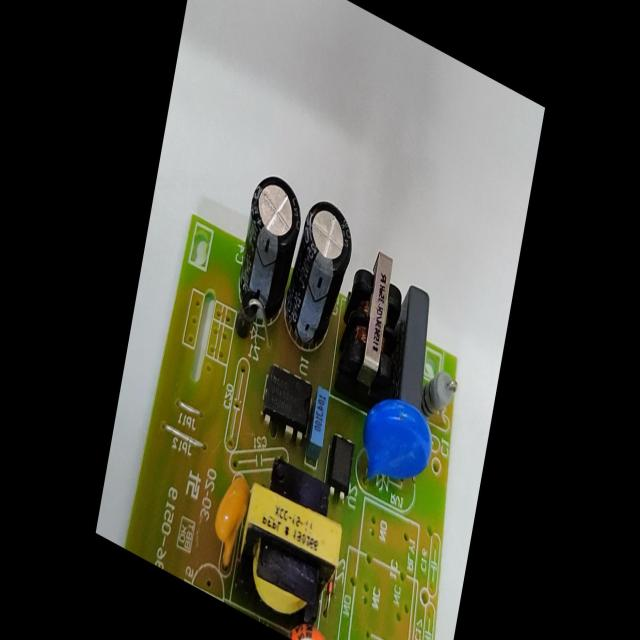Cap1: (272, 602, 345, 639)
Cap3: (278, 180, 362, 369)
Cap4: (222, 155, 307, 342)
MOSFET: (256, 351, 318, 453)
Mov: (350, 377, 440, 513)
Resistor: (419, 358, 458, 425)
Transformer: (222, 434, 355, 640), (335, 231, 414, 397)
